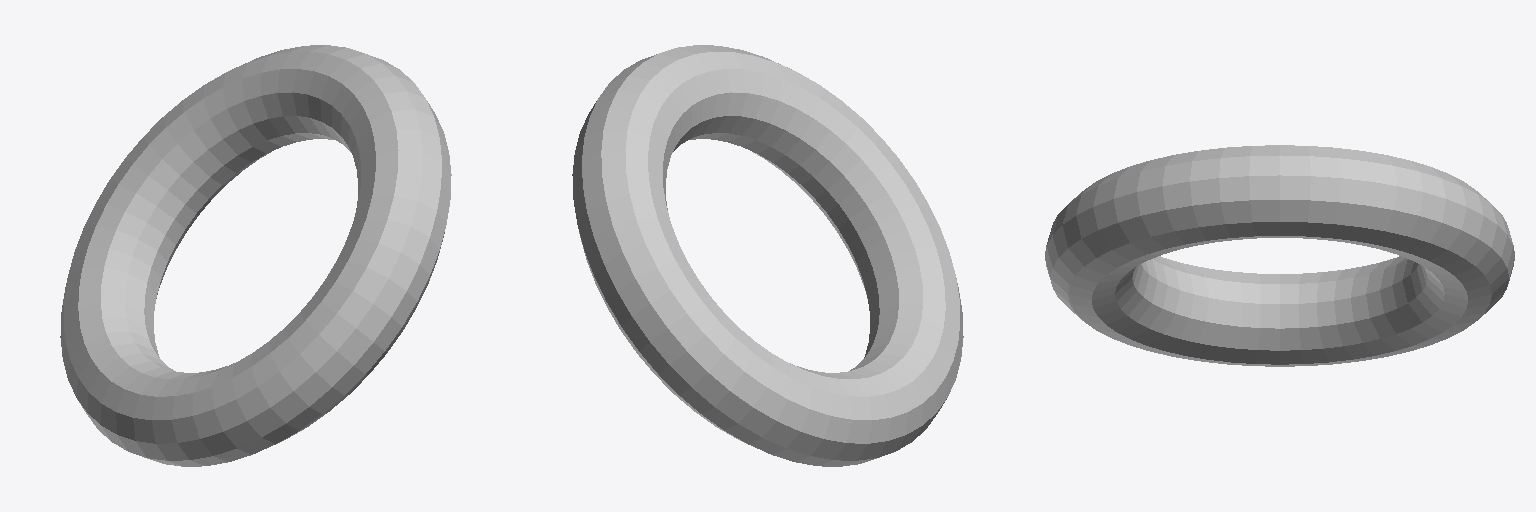
Rendered from right_Ear.obj.
3 renders of one model, left to right at view 1: azimuth 30°, elevation 25°; view 2: azimuth 150°, elevation 25°; view 3: azimuth 270°, elevation 25°, orthographic.
Visible parts, largest first — view 1: トーラス.004; view 2: トーラス.004; view 3: トーラス.004.
Part boxes in pixels (x1,y1,x2,y2): トーラス.004: (60, 45, 451, 466); トーラス.004: (572, 45, 963, 466); トーラス.004: (1045, 145, 1514, 366).
Size of the model in its own units: 1.02 by 1.02 by 1.34.